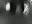person: (25, 3, 31, 17), (16, 5, 22, 16), (7, 3, 11, 13)
